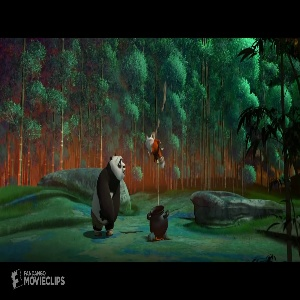po: (88, 151, 127, 236)
shifu: (141, 132, 168, 169)
